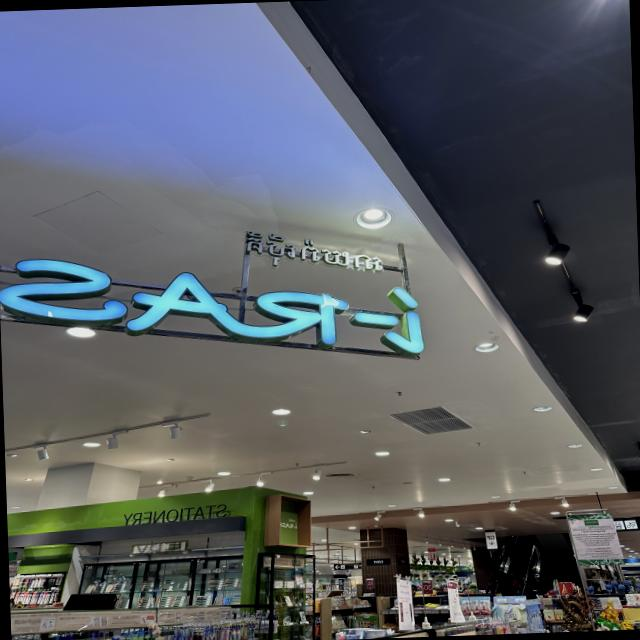Yolov11kh: (238, 225, 390, 277)
